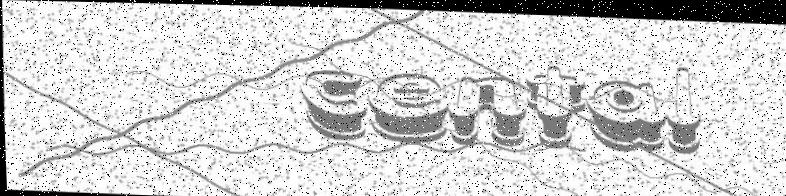a: (583, 76, 666, 149)
c: (298, 67, 369, 139)
e: (365, 69, 448, 141)
l: (663, 60, 701, 152)
n: (444, 73, 527, 144)
t: (523, 62, 586, 148)
